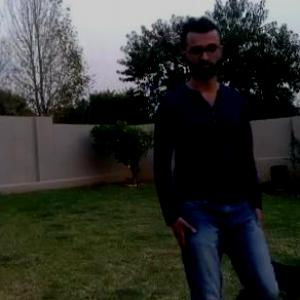follow: (159, 14, 256, 298)
